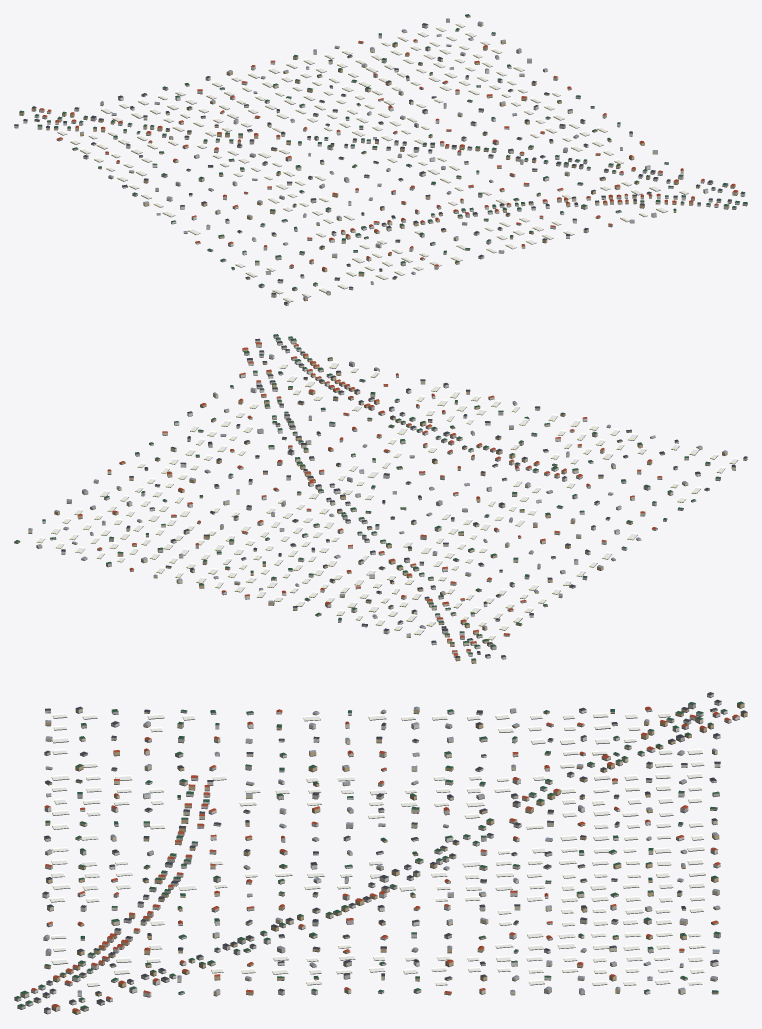
The model's file is buildings_T_E06_S03.glb.
The picture shows the model from 3 angles, top to bottom: view 1: azimuth 30°, elevation 25°; view 2: azimuth 150°, elevation 25°; view 3: azimuth 270°, elevation 25°; orthographic projection. The views are drawn at different scales.
Parts seen in each view (by area): view 1: T_E06_S03_roofs_agri_greenhouse_arch, T_E06_S03_slope_seating_foundations, T_E06_S03_walls_wall_modern_warm_white, T_E06_S03_walls_wall_french_ochre_villa, T_E06_S03_roofs_roof_pine_green_hip, T_E06_S03_roofs_roof_slate_French_villa_hip, T_E06_S03_walls_wall_dalat_cream_stucco, T_E06_S03_walls_wall_pastel_sand_gray, T_E06_S03_roofs_roof_terracotta_gable, T_E06_S03_roofs_roof_zinc_silver_gable; view 2: T_E06_S03_slope_seating_foundations, T_E06_S03_roofs_agri_greenhouse_arch, T_E06_S03_walls_wall_french_ochre_villa, T_E06_S03_walls_wall_modern_warm_white, T_E06_S03_walls_wall_dalat_cream_stucco, T_E06_S03_roofs_roof_pine_green_hip, T_E06_S03_roofs_roof_slate_French_villa_hip, T_E06_S03_walls_wall_pastel_sand_gray, T_E06_S03_roofs_roof_terracotta_gable, T_E06_S03_roofs_roof_zinc_silver_gable; view 3: T_E06_S03_roofs_agri_greenhouse_arch, T_E06_S03_slope_seating_foundations, T_E06_S03_walls_wall_modern_warm_white, T_E06_S03_walls_wall_french_ochre_villa, T_E06_S03_walls_wall_dalat_cream_stucco, T_E06_S03_roofs_roof_pine_green_hip, T_E06_S03_roofs_roof_slate_French_villa_hip, T_E06_S03_walls_wall_pastel_sand_gray, T_E06_S03_roofs_roof_terracotta_gable, T_E06_S03_roofs_roof_zinc_silver_gable.
Part boxes in pixels (x1,y1,x2,y2): T_E06_S03_roofs_agri_greenhouse_arch: (57,22,688,301); T_E06_S03_slope_seating_foundations: (14,16,747,305); T_E06_S03_walls_wall_modern_warm_white: (14,24,745,284); T_E06_S03_walls_wall_french_ochre_villa: (19,15,735,300); T_E06_S03_roofs_roof_pine_green_hip: (19,14,747,288); T_E06_S03_roofs_roof_slate_French_villa_hip: (14,23,744,303); T_E06_S03_walls_wall_dalat_cream_stucco: (57,22,738,305); T_E06_S03_walls_wall_pastel_sand_gray: (37,20,747,290); T_E06_S03_roofs_roof_terracotta_gable: (39,39,737,269); T_E06_S03_roofs_roof_zinc_silver_gable: (80,18,707,297); T_E06_S03_slope_seating_foundations: (14,337,747,663); T_E06_S03_roofs_agri_greenhouse_arch: (36,361,738,639); T_E06_S03_walls_wall_french_ochre_villa: (14,348,727,663); T_E06_S03_walls_wall_modern_warm_white: (42,339,700,658); T_E06_S03_walls_wall_dalat_cream_stucco: (28,339,747,645); T_E06_S03_roofs_roof_pine_green_hip: (14,334,720,660); T_E06_S03_roofs_roof_slate_French_villa_hip: (61,338,747,657); T_E06_S03_walls_wall_pastel_sand_gray: (36,335,720,652); T_E06_S03_roofs_roof_terracotta_gable: (78,342,662,655); T_E06_S03_roofs_roof_zinc_silver_gable: (28,354,727,634); T_E06_S03_roofs_agri_greenhouse_arch: (49,712,705,986); T_E06_S03_slope_seating_foundations: (14,696,747,1014); T_E06_S03_walls_wall_modern_warm_white: (25,694,739,1013); T_E06_S03_walls_wall_french_ochre_villa: (44,703,747,1014); T_E06_S03_walls_wall_dalat_cream_stucco: (20,708,719,1010); T_E06_S03_roofs_roof_pine_green_hip: (14,701,744,1008); T_E06_S03_roofs_roof_slate_French_villa_hip: (33,692,747,1010); T_E06_S03_walls_wall_pastel_sand_gray: (14,703,720,1011); T_E06_S03_roofs_roof_terracotta_gable: (31,706,739,1011); T_E06_S03_roofs_roof_zinc_silver_gable: (44,706,719,992).
Size of the model in its own units: 1926 by 30.08 by 1892.
